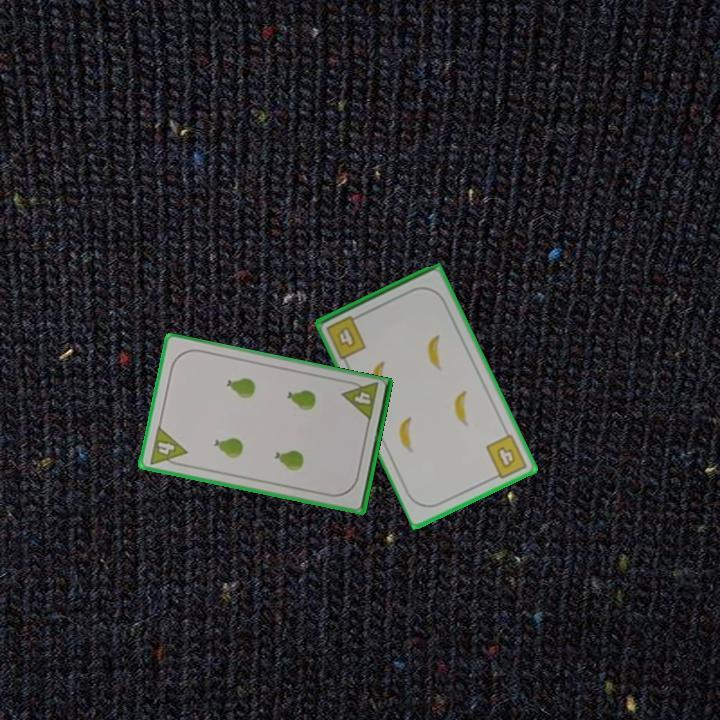4b: (483, 431, 530, 483), (323, 311, 369, 362)
4p: (146, 423, 190, 470), (339, 377, 381, 424)
